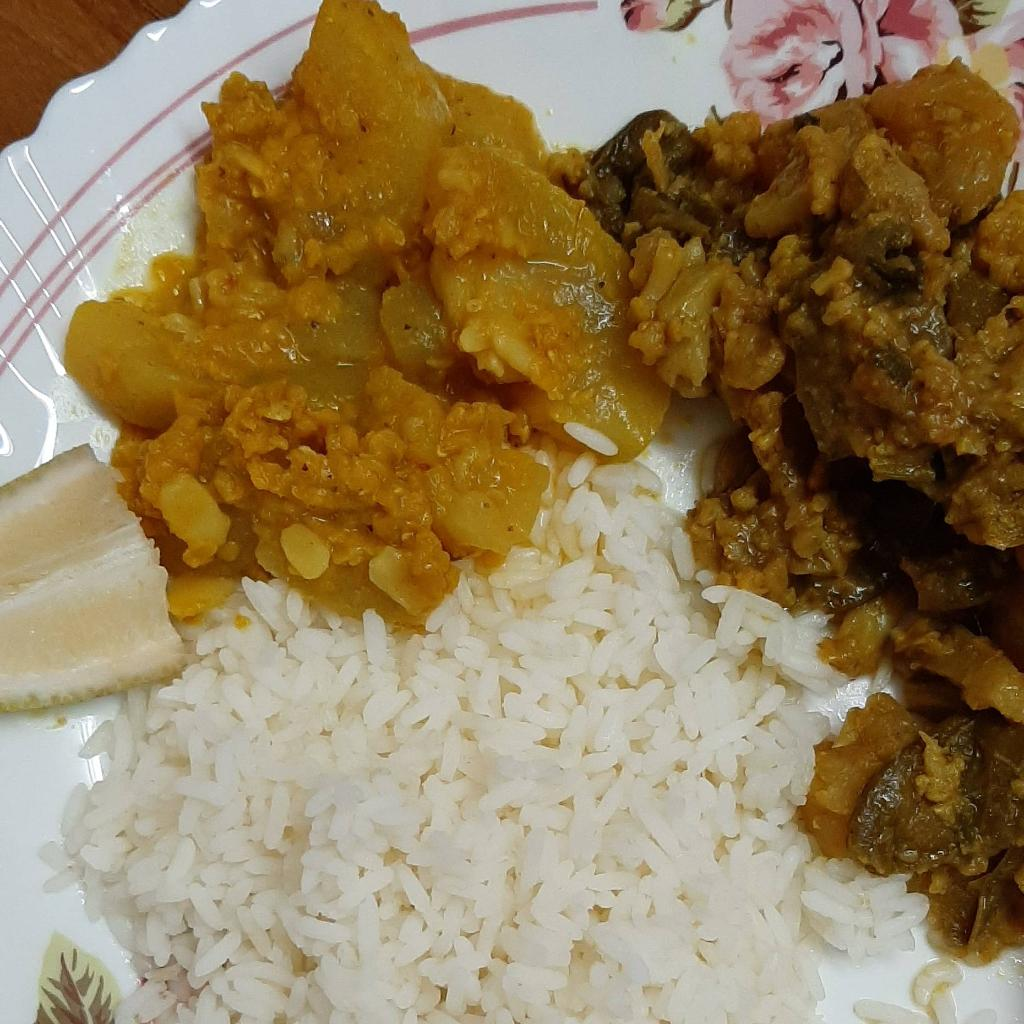lau: (61, 0, 672, 624)
lemon: (0, 441, 187, 713)
rice: (42, 462, 931, 1023)
vegetable: (594, 56, 1023, 966)
